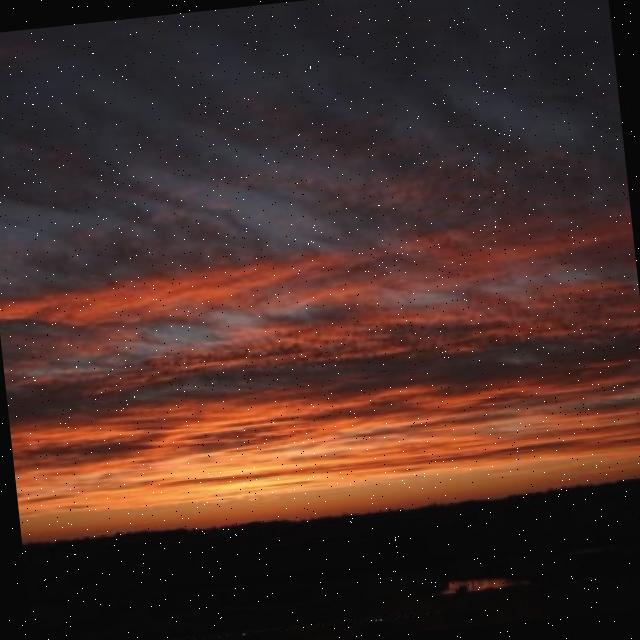As: (1, 7, 640, 490)
